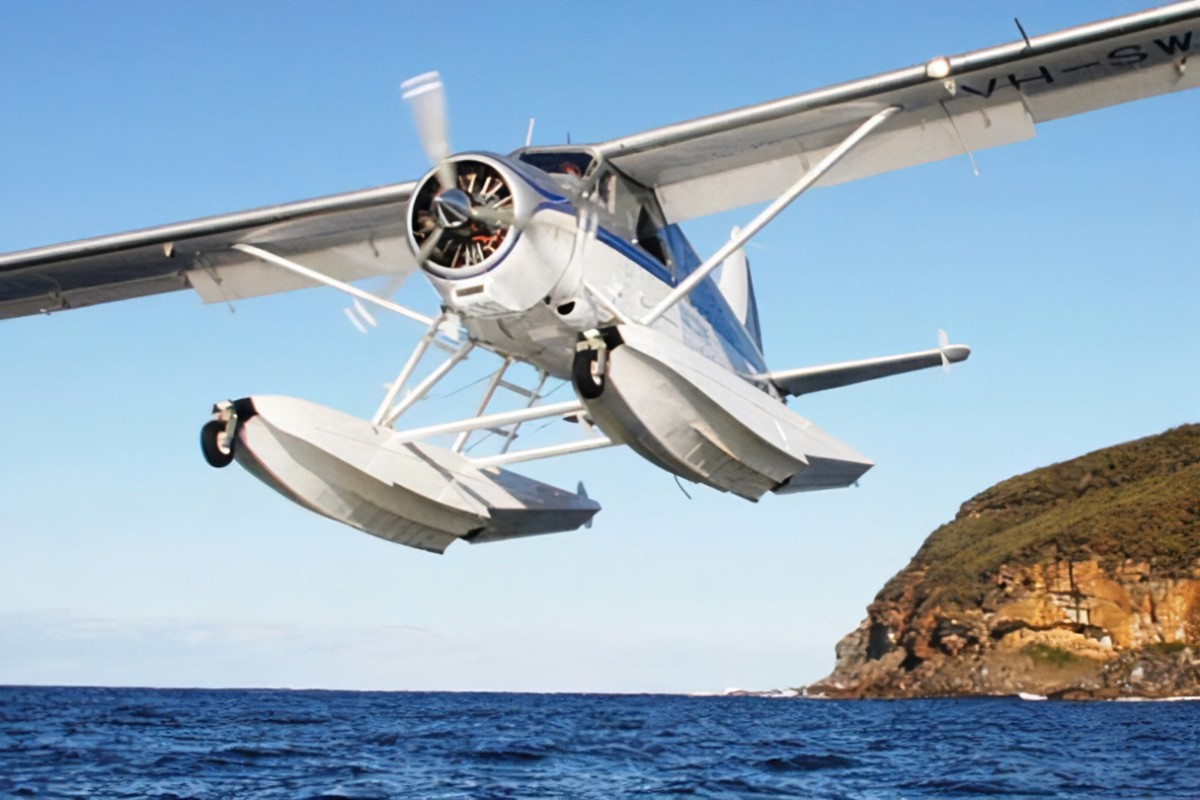Aeronef_de_loisir: (1, 1, 1199, 602)
